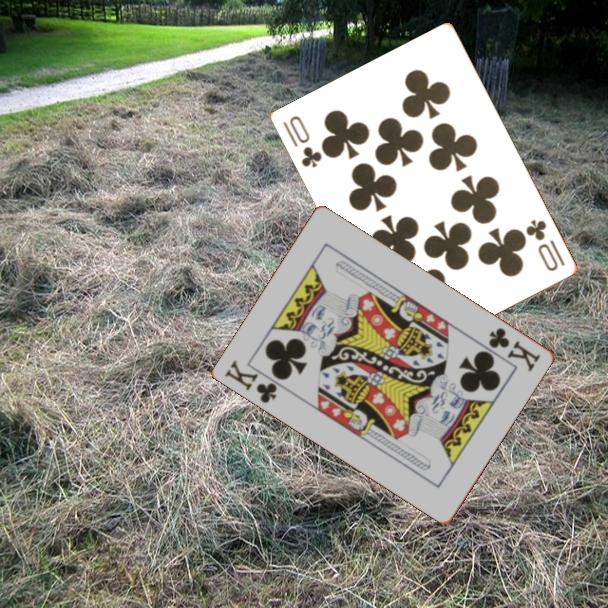c10: (280, 112, 326, 171), (522, 216, 568, 274)
c13: (485, 324, 544, 375), (221, 356, 281, 406)
